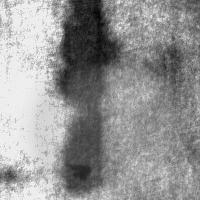patches: (39, 59, 185, 200), (56, 1, 115, 191), (154, 165, 200, 200)
